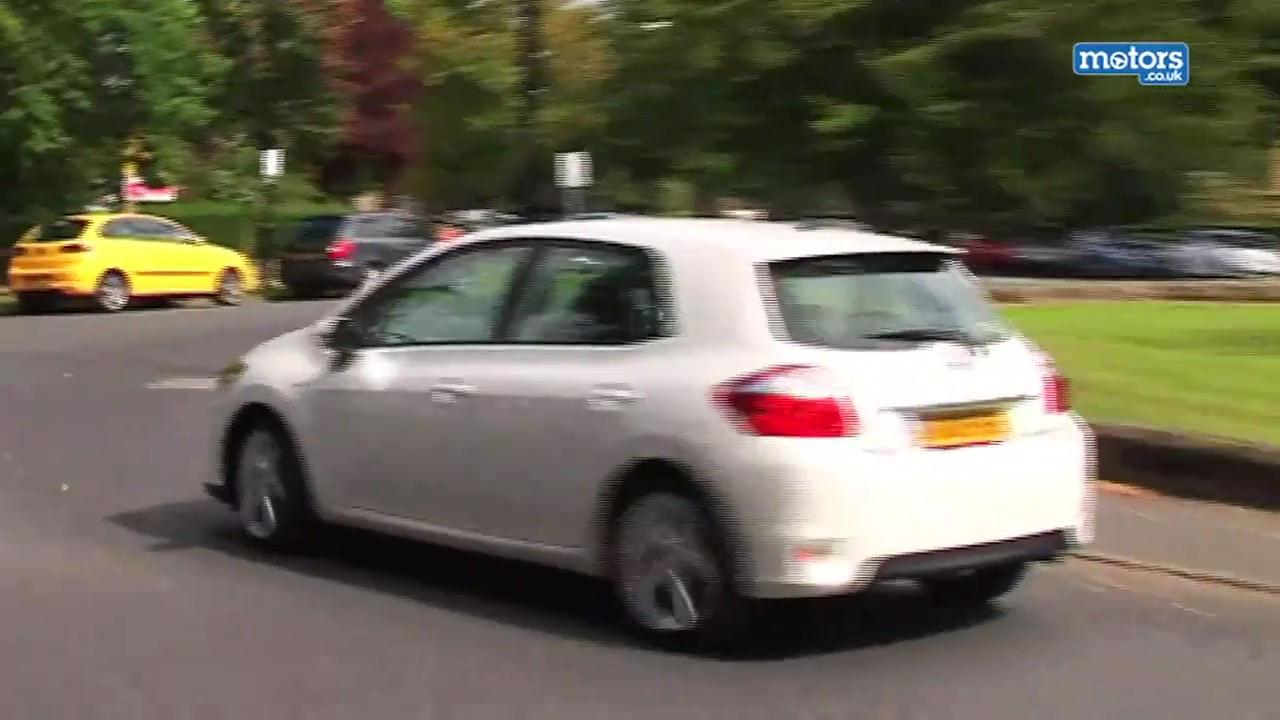car: (207, 213, 1095, 656), (11, 214, 262, 311), (284, 209, 455, 297), (1086, 221, 1205, 278), (1189, 224, 1280, 279), (933, 228, 1027, 273), (428, 209, 524, 247), (1016, 224, 1086, 267)
